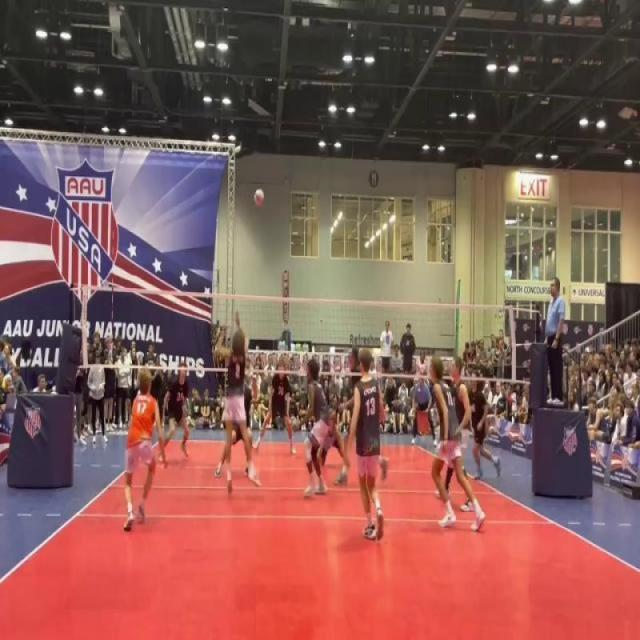volleyball: (253, 188, 265, 209)
